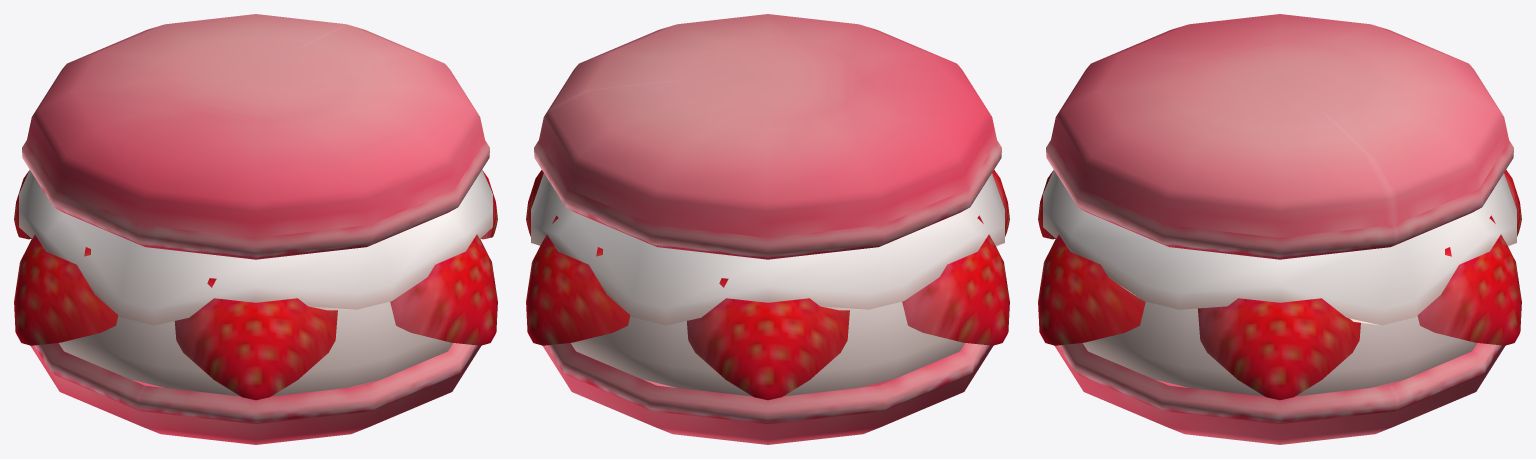
The model's file is Doll_OB_Cake_003.fbx.
The picture shows the model from 3 angles, left to right: view 1: azimuth 30°, elevation 25°; view 2: azimuth 150°, elevation 25°; view 3: azimuth 270°, elevation 25°; orthographic projection.
Visible parts, largest first — view 1: Doll_OB_Cake_003; view 2: Doll_OB_Cake_003; view 3: Doll_OB_Cake_003.
Part boxes in pixels (left/top/right/bottom): Doll_OB_Cake_003: left=14, top=14, right=497, bottom=444; Doll_OB_Cake_003: left=526, top=14, right=1009, bottom=444; Doll_OB_Cake_003: left=1038, top=14, right=1521, bottom=444.
Size of the model in its own units: 0.6284 by 0.3892 by 0.5556.
Materials: 1 (1 with a texture image).
